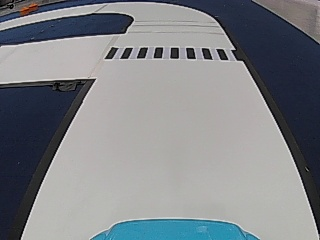CrossWalk: (102, 45, 241, 62)
